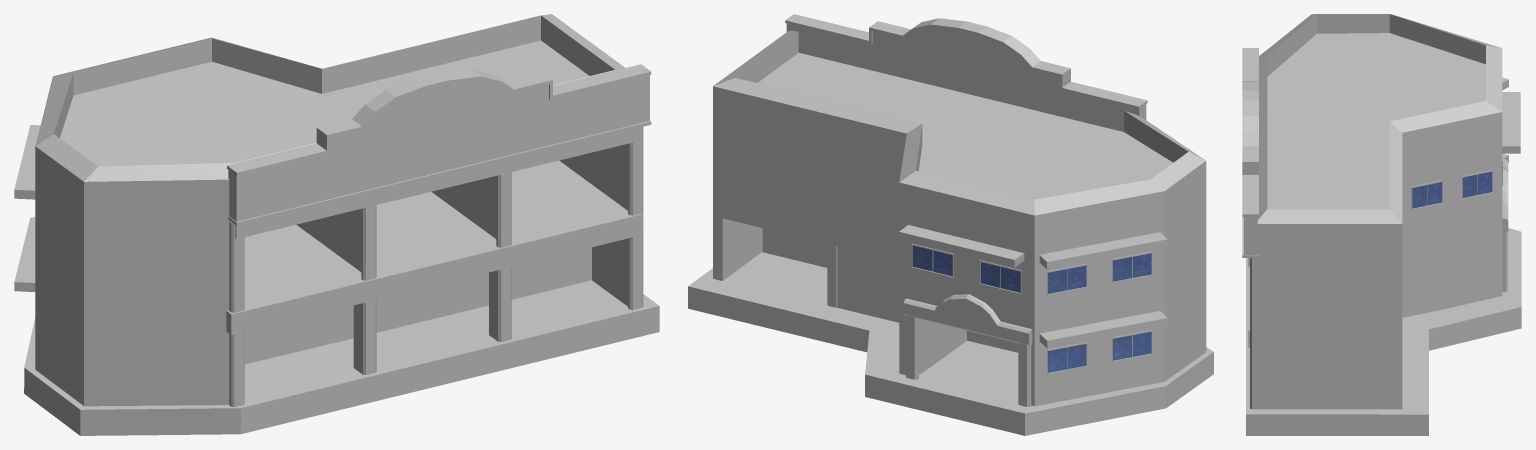
Rendered from shop_sea_02a.fbx.
3 views of the same model, side by side, from view 1: azimuth 30°, elevation 25°; view 2: azimuth 150°, elevation 25°; view 3: azimuth 270°, elevation 25° (orthographic). The views are drawn at different scales.
Parts seen in each view (by area): view 1: shop_sea_02a; view 2: shop_sea_02a; view 3: shop_sea_02a.
Boxes of the visible parts, box(x1,y1,x2,y2) form: shop_sea_02a: box(14, 14, 659, 435); shop_sea_02a: box(688, 14, 1213, 435); shop_sea_02a: box(1242, 14, 1521, 435).
Size of the model in its own units: 23.2 by 12.35 by 12.46.
